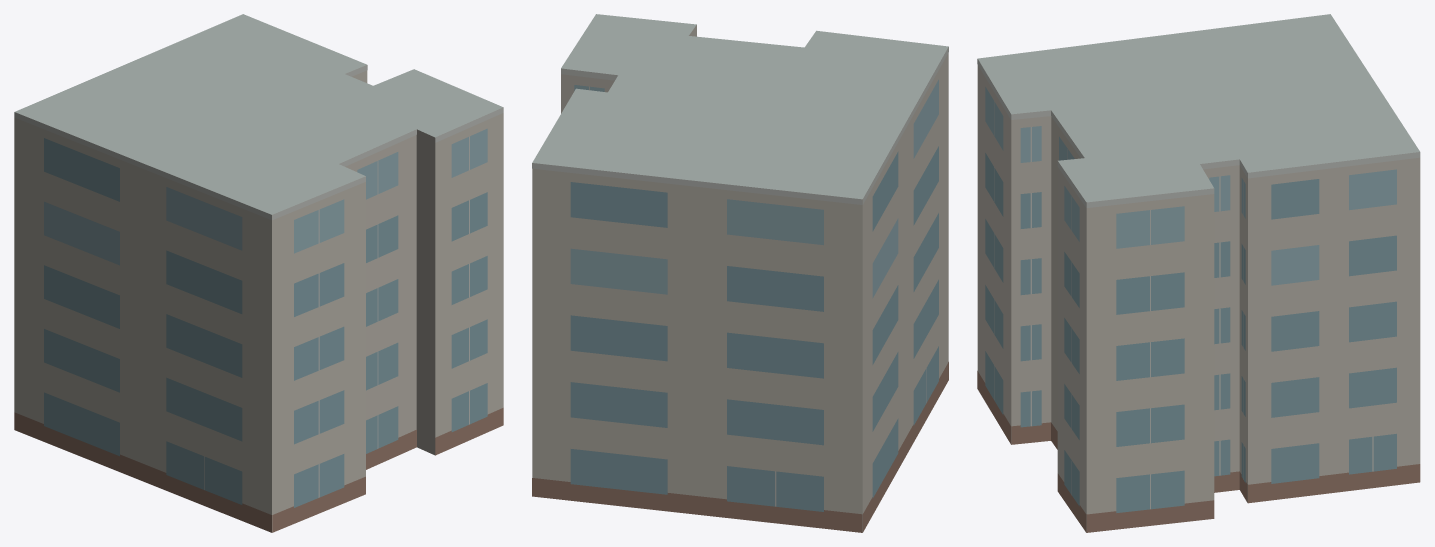
The model's file is survey-upis-32805507.glb.
3 renders of one model, left to right at view 1: azimuth 30°, elevation 25°; view 2: azimuth 150°, elevation 25°; view 3: azimuth 270°, elevation 25°, orthographic. The views are drawn at different scales.
Visible parts, largest first — view 1: survey-upis-32805507.tmp; view 2: survey-upis-32805507.tmp; view 3: survey-upis-32805507.tmp.
Boxes of the visible parts, <box> form: survey-upis-32805507.tmp: <box>14,14,503,532</box>; survey-upis-32805507.tmp: <box>532,14,948,532</box>; survey-upis-32805507.tmp: <box>977,14,1420,532</box>.
Size of the model in its own units: 17.26 by 14.1 by 17.13.
